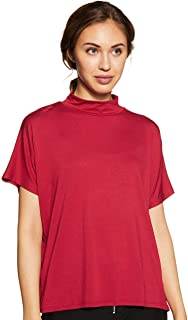tshirt: (1, 89, 177, 316)
